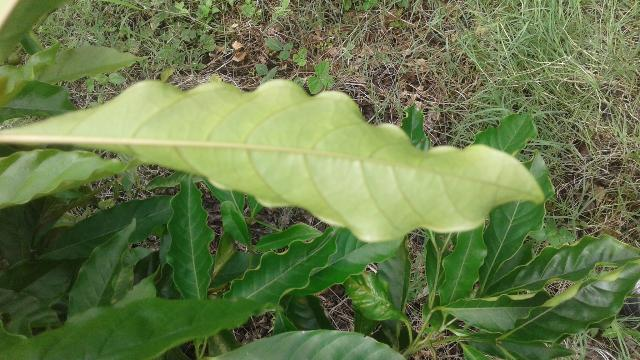healthy: (0, 73, 552, 250)
